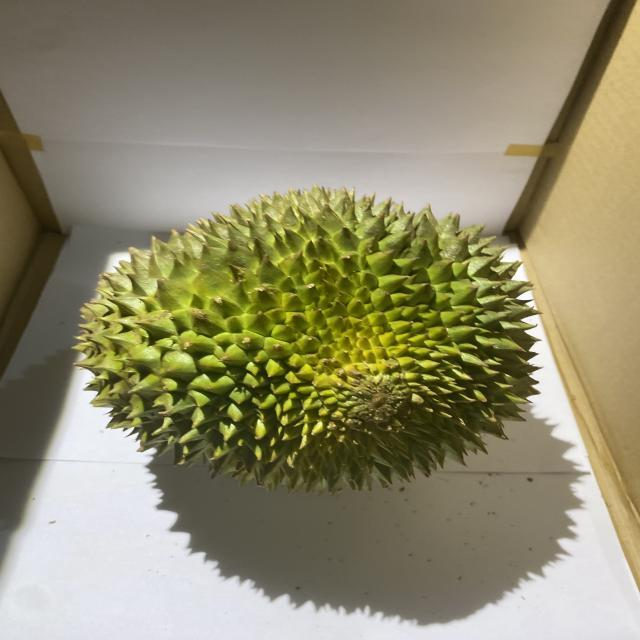immature: (72, 184, 545, 495)
